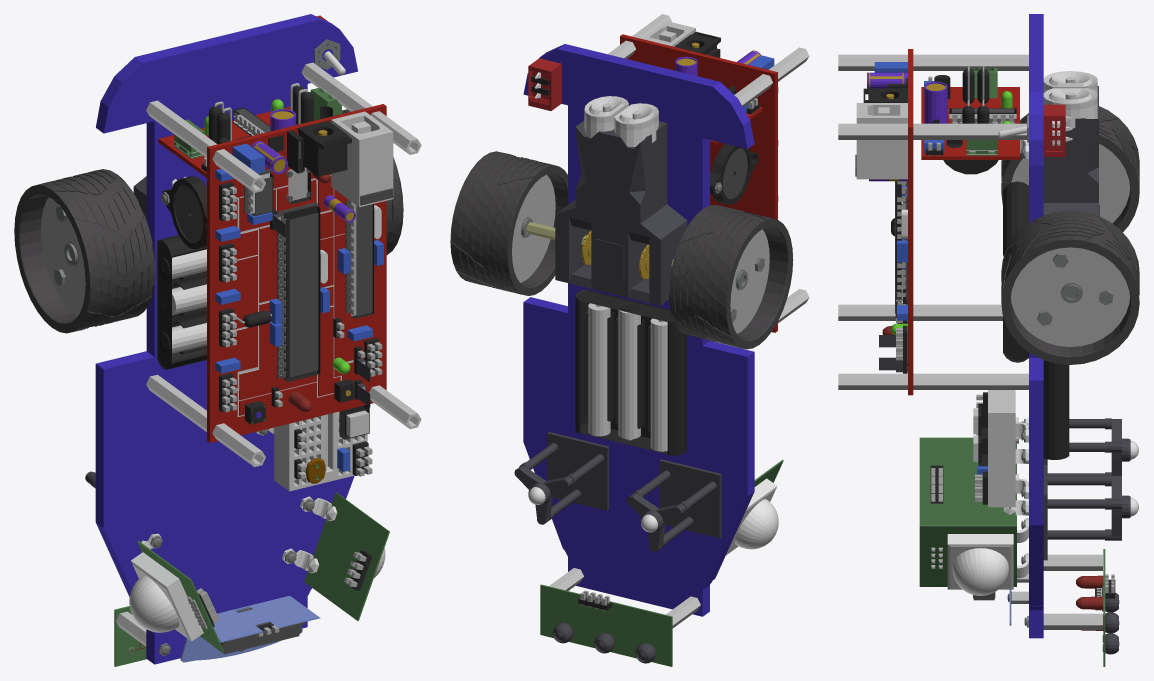
Rendered from robot3.obj.
3 views of the same model, side by side, from view 1: azimuth 30°, elevation 25°; view 2: azimuth 150°, elevation 25°; view 3: azimuth 270°, elevation 25° (orthographic). The views are drawn at different scales.
Parts seen in each view (by area): view 1: Object.343, Object.314, Object.18, Object.251, Object.109, Object.110, Object.222, Object.160, Object.315, Object.77, Object.159, Object.221 (+22 smaller); view 2: Object.343, Object.158, Object.18, Object.11, Object.342, Object.314, Object.123, Object.328, Object.329, Object.340, Object.338, Object.110 (+12 smaller); view 3: Object.11, Object.343, Object.109, Object.110, Object.18, Object.158, Object.160, Object.222, Object.342, Object.188, Object.314, Object.315 (+27 smaller).
Boxes of the visible parts, <box> form: Object.343: <box>95,14,358,664</box>; Object.314: <box>207,104,386,442</box>; Object.18: <box>14,169,155,333</box>; Object.251: <box>284,205,320,381</box>; Object.109: <box>304,492,389,620</box>; Object.110: <box>129,540,224,653</box>; Object.222: <box>331,111,393,207</box>; Object.160: <box>274,411,367,491</box>; Object.315: <box>157,235,206,369</box>; Object.77: <box>180,596,320,662</box>; Object.159: <box>162,176,206,249</box>; Object.221: <box>298,120,351,176</box>; Object.343: <box>523,44,754,616</box>; Object.158: <box>555,120,687,305</box>; Object.18: <box>669,204,793,349</box>; Object.11: <box>450,151,567,295</box>; Object.342: <box>575,289,686,455</box>; Object.314: <box>620,34,777,332</box>; Object.123: <box>540,584,672,666</box>; Object.328: <box>659,459,721,538</box>; Object.329: <box>547,432,608,510</box>; Object.340: <box>588,303,610,436</box>; Object.338: <box>618,310,640,439</box>; Object.110: <box>726,459,783,555</box>; Object.11: <box>1001,210,1139,364</box>; Object.343: <box>1029,14,1043,638</box>; Object.109: <box>919,525,1016,595</box>; Object.110: <box>919,437,1016,525</box>; Object.18: <box>1001,106,1139,232</box>; Object.158: <box>1043,86,1099,216</box>; Object.160: <box>988,390,1015,507</box>; Object.222: <box>855,103,907,179</box>; Object.342: <box>1043,360,1069,459</box>; Object.188: <box>921,87,1019,159</box>; Object.314: <box>908,49,913,395</box>; Object.315: <box>1003,181,1028,362</box>.
Size of the model in its own units: 11.61 by 22.56 by 10.61.
